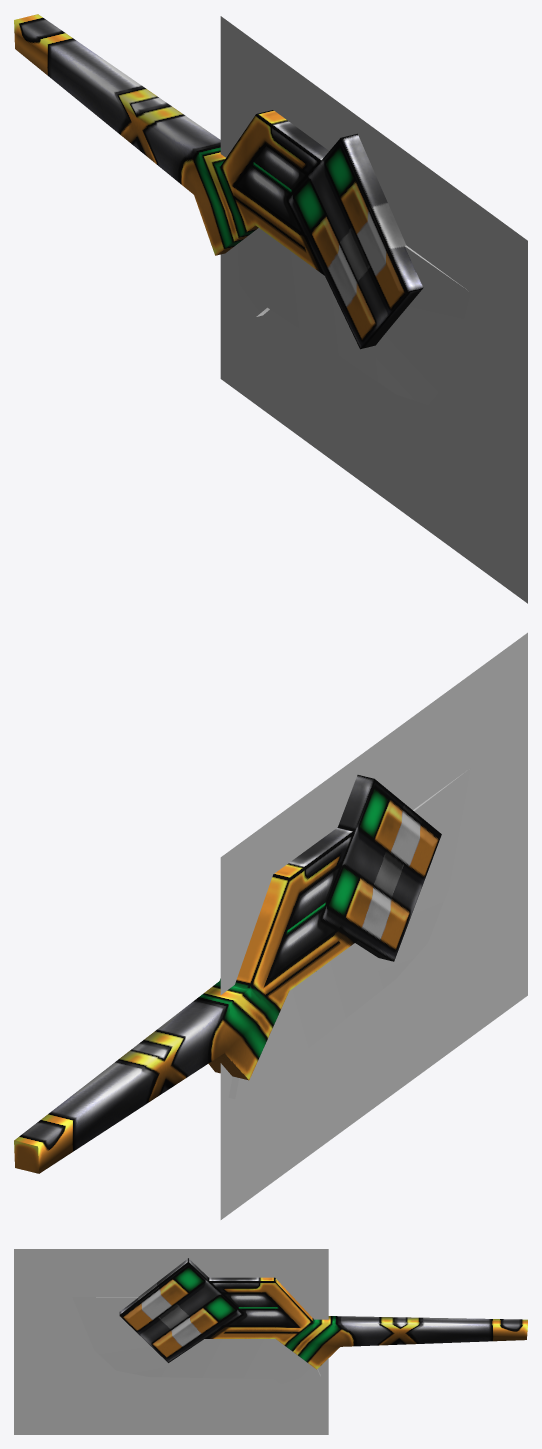
File: weapon_melees_01.FBX
3 renders of one model, top to bottom at view 1: azimuth 30°, elevation 25°; view 2: azimuth 150°, elevation 25°; view 3: azimuth 270°, elevation 25°, orthographic. The views are drawn at different scales.
Parts seen in each view (by area): view 1: weapon_melees_01_c, weapon_melees_01, weapon_melees_01_b; view 2: weapon_melees_01_c, weapon_melees_01, weapon_melees_01_b; view 3: weapon_melees_01_c, weapon_melees_01, weapon_melees_01_b.
Boxes of the visible parts, bbox=[...] form: weapon_melees_01_c: bbox=[220, 16, 527, 603]; weapon_melees_01: bbox=[14, 14, 423, 349]; weapon_melees_01_b: bbox=[222, 228, 470, 404]; weapon_melees_01_c: bbox=[220, 632, 527, 1219]; weapon_melees_01: bbox=[14, 775, 441, 1173]; weapon_melees_01_b: bbox=[228, 768, 470, 1099]; weapon_melees_01_c: bbox=[14, 1249, 328, 1434]; weapon_melees_01: bbox=[119, 1258, 527, 1369]; weapon_melees_01_b: bbox=[72, 1297, 320, 1388].
Bounding box in the file's own units: 10 × 102 × 255.
